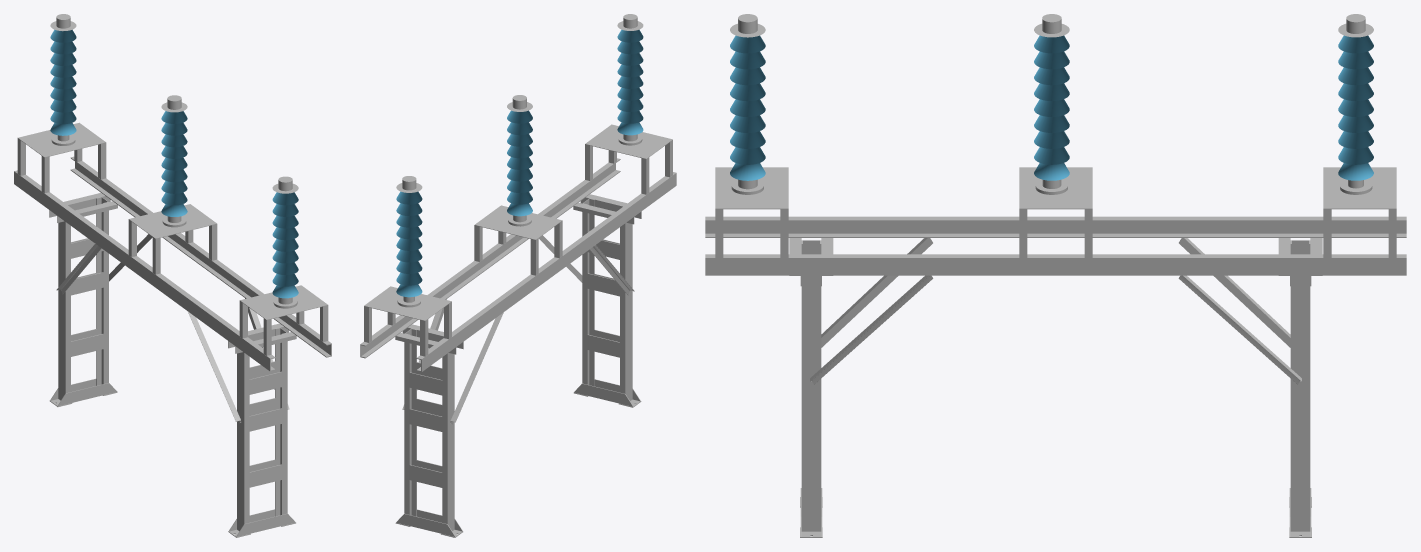
The model's file is Б110-63-2-Б-УХЛ1.fbx.
The picture shows the model from 3 angles, left to right: view 1: azimuth 30°, elevation 25°; view 2: azimuth 150°, elevation 25°; view 3: azimuth 270°, elevation 25°; orthographic projection. The views are drawn at different scales.
Parts seen in each view (by area): view 1: Блок ОПН 110кВ; view 2: Блок ОПН 110кВ; view 3: Блок ОПН 110кВ.
Boxes of the visible parts, left/top/right/bottom form: Блок ОПН 110кВ: left=14, top=14, right=331, bottom=537; Блок ОПН 110кВ: left=360, top=14, right=676, bottom=537; Блок ОПН 110кВ: left=705, top=14, right=1406, bottom=537.
Bounding box in the file's own units: 610 × 3383 × 4300.
